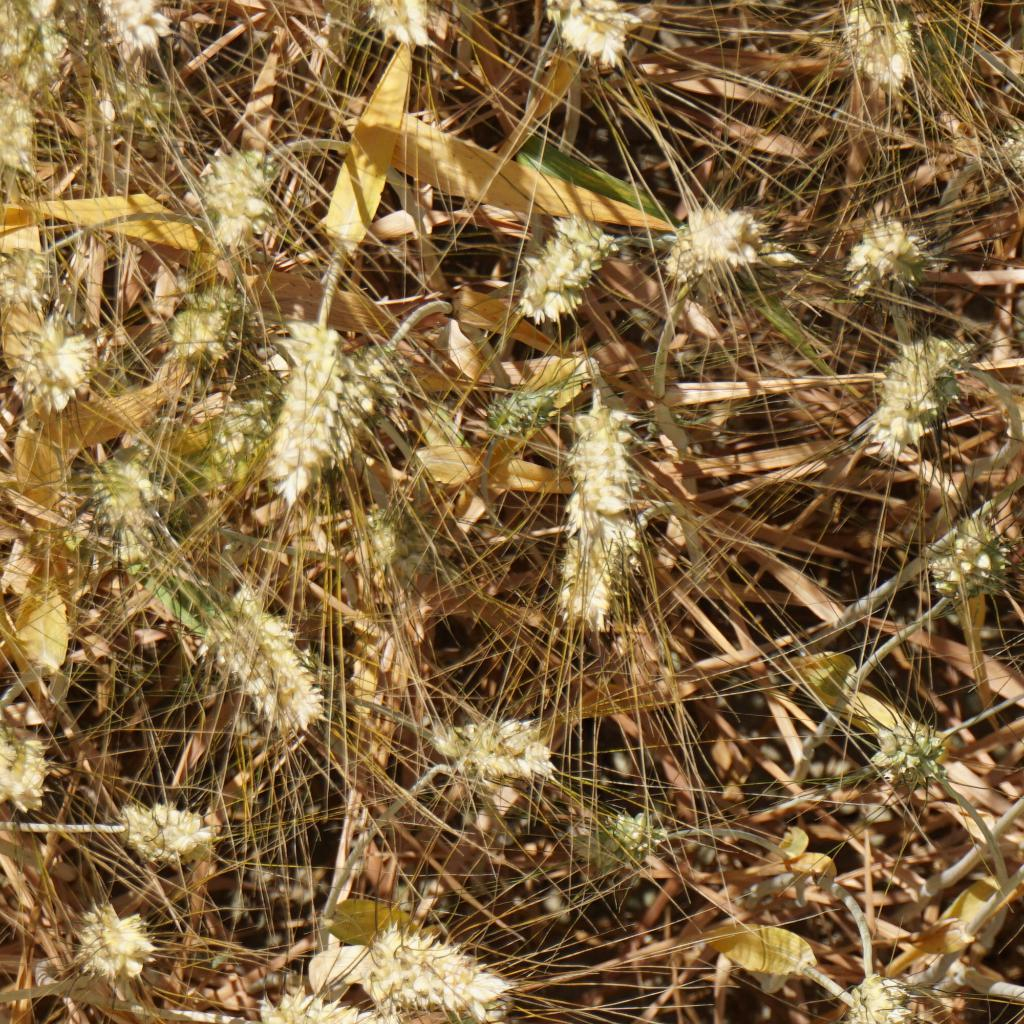0-0: (190, 577, 336, 740), (502, 216, 632, 326), (258, 309, 330, 500), (352, 933, 514, 1010), (435, 698, 572, 789), (830, 179, 927, 297), (352, 502, 461, 604), (671, 190, 772, 293), (567, 494, 642, 632), (336, 314, 407, 446), (561, 391, 642, 504), (870, 334, 958, 437), (828, 0, 917, 96), (67, 891, 159, 982), (88, 437, 175, 531), (121, 777, 208, 864), (874, 705, 954, 799), (185, 147, 263, 242), (13, 326, 112, 397), (159, 269, 238, 352), (193, 391, 258, 490), (549, 0, 665, 55), (939, 519, 1012, 600), (0, 216, 62, 307), (476, 364, 547, 442), (0, 39, 41, 171), (354, 0, 458, 51), (99, 0, 185, 60), (602, 793, 673, 864), (249, 996, 423, 1024), (0, 702, 47, 797), (833, 982, 884, 1024), (998, 112, 1024, 181)
